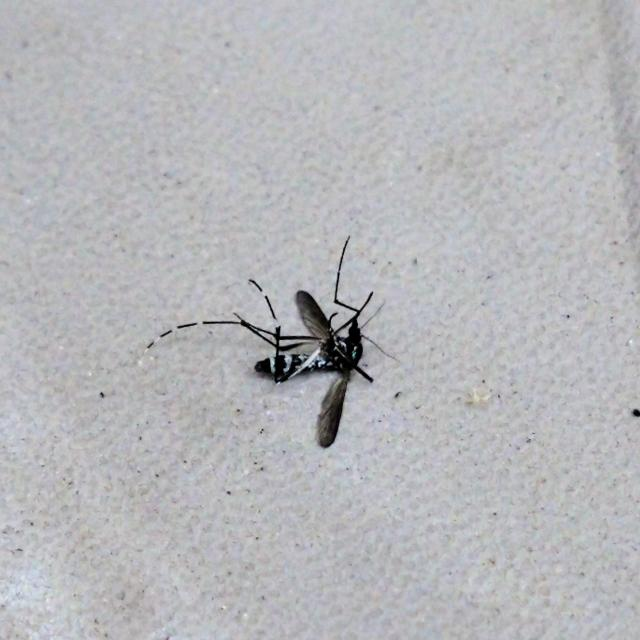albopictus: (145, 224, 407, 446)
